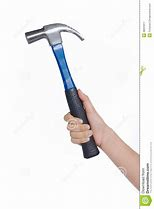hammer: (23, 21, 103, 161)
